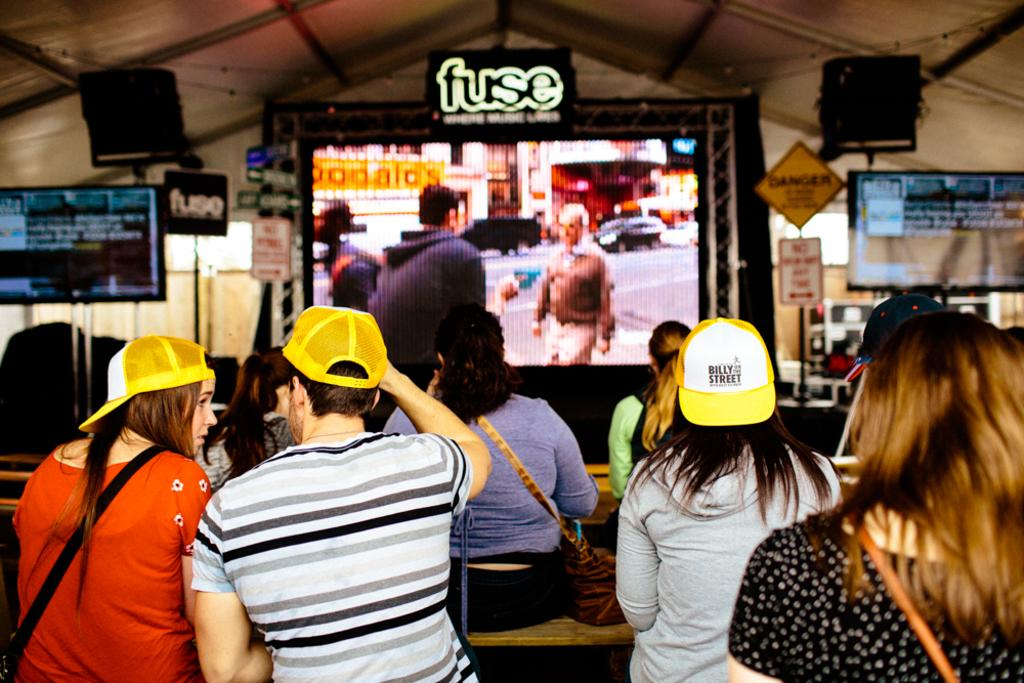Hat: (80, 342, 214, 438), (670, 312, 776, 421), (277, 299, 388, 384)
